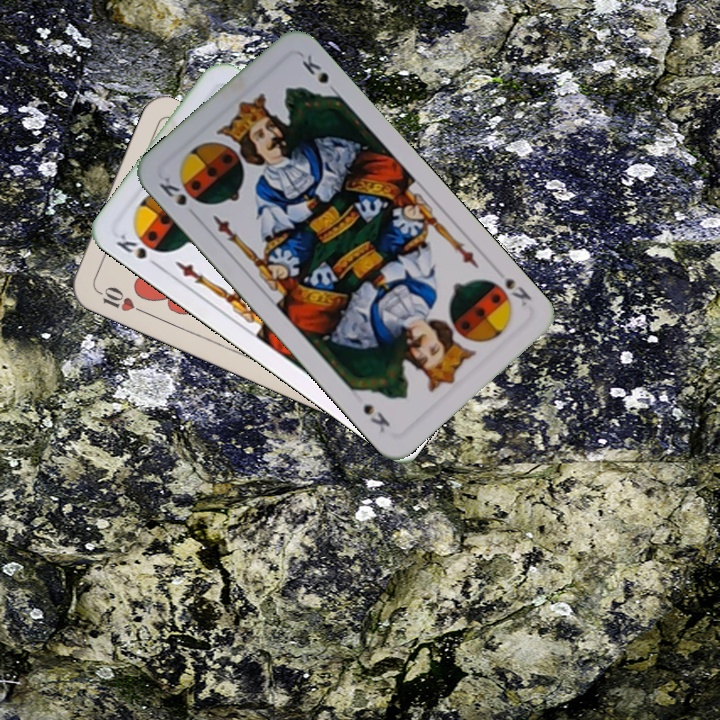H10: (91, 282, 147, 316)
SK: (112, 229, 167, 271), (155, 172, 201, 221), (501, 274, 534, 309)
